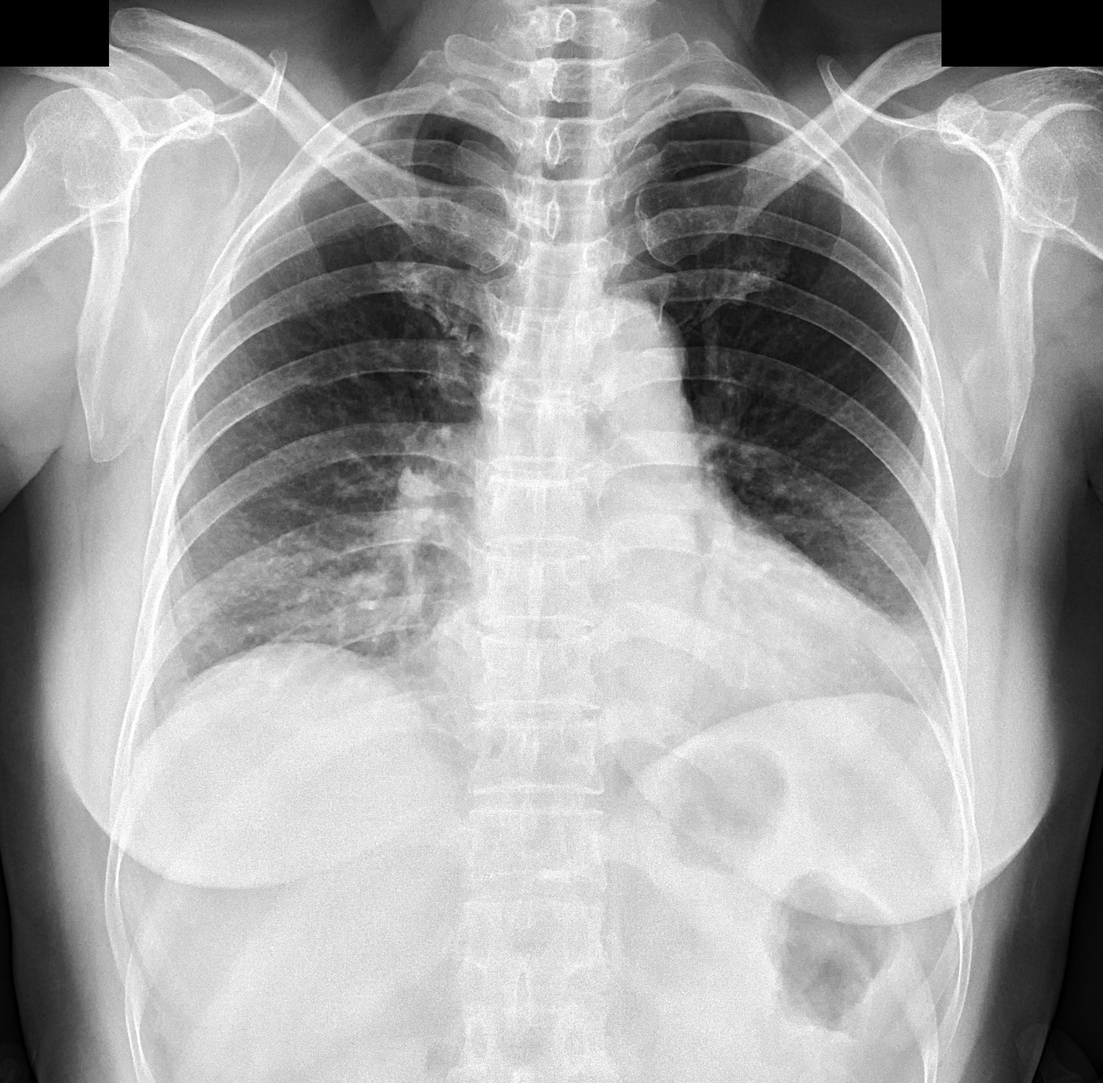Aortic enlargement: (564, 295, 699, 452)
Cardiomegaly: (418, 581, 929, 748)
